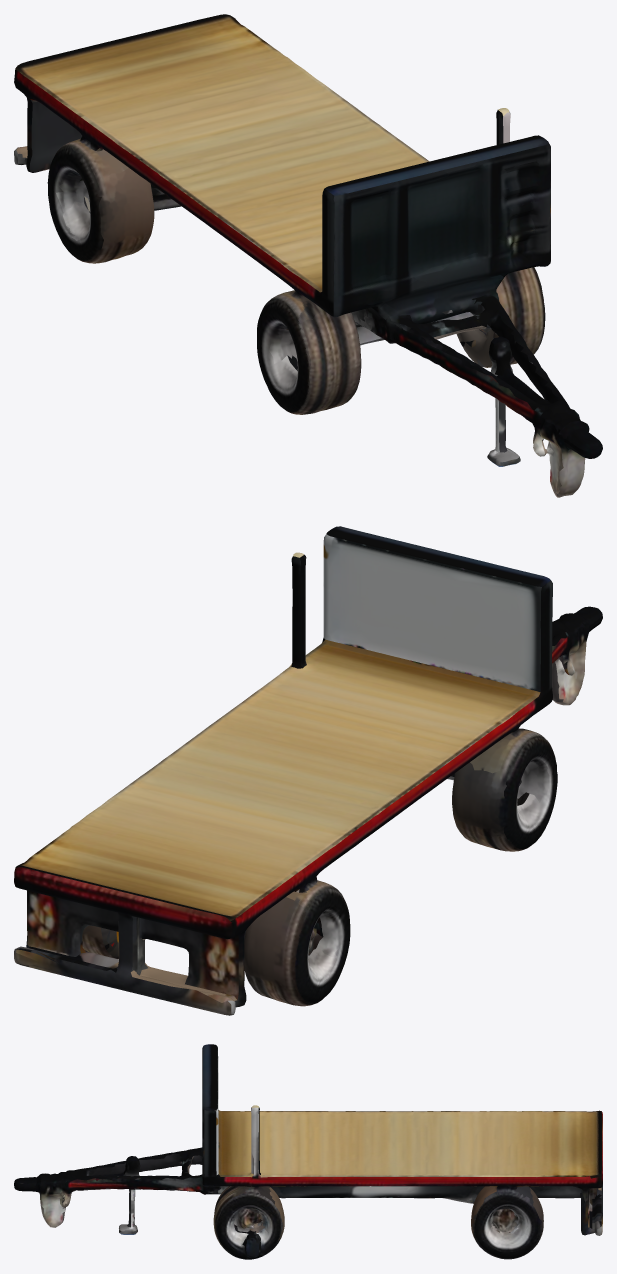
The model's file is flatbed3d.glb.
The picture shows the model from 3 angles, top to bottom: view 1: azimuth 30°, elevation 25°; view 2: azimuth 150°, elevation 25°; view 3: azimuth 270°, elevation 25°; orthographic projection. The views are drawn at different scales.
Visible parts, largest first — view 1: tmpo5l1y63k.ply; view 2: tmpo5l1y63k.ply; view 3: tmpo5l1y63k.ply.
Boxes of the visible parts, <box> form: tmpo5l1y63k.ply: <box>14,14,602,497</box>; tmpo5l1y63k.ply: <box>14,526,602,1015</box>; tmpo5l1y63k.ply: <box>14,1044,602,1259</box>.
Bounding box in the file's own units: 0.613 × 0.5766 × 1.96.
1 material, 1 textured.
